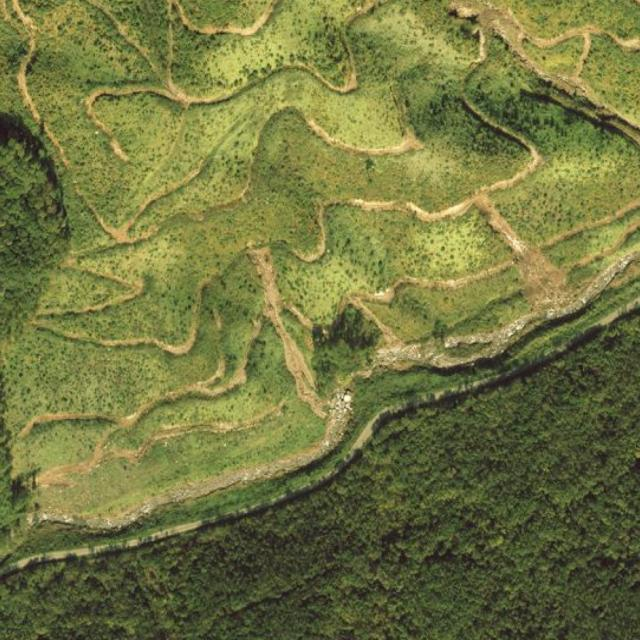landslide: (246, 223, 582, 418), (290, 86, 566, 305), (72, 102, 425, 244), (290, 88, 544, 263), (72, 308, 263, 473), (449, 1, 640, 144), (83, 82, 240, 171), (29, 280, 210, 355), (0, 0, 69, 168), (94, 275, 219, 357), (270, 91, 423, 155), (281, 0, 381, 92), (159, 322, 262, 403), (79, 83, 191, 145), (18, 60, 72, 168), (167, 0, 279, 38), (60, 257, 145, 302), (64, 254, 141, 292), (285, 338, 315, 395), (244, 239, 276, 280)
